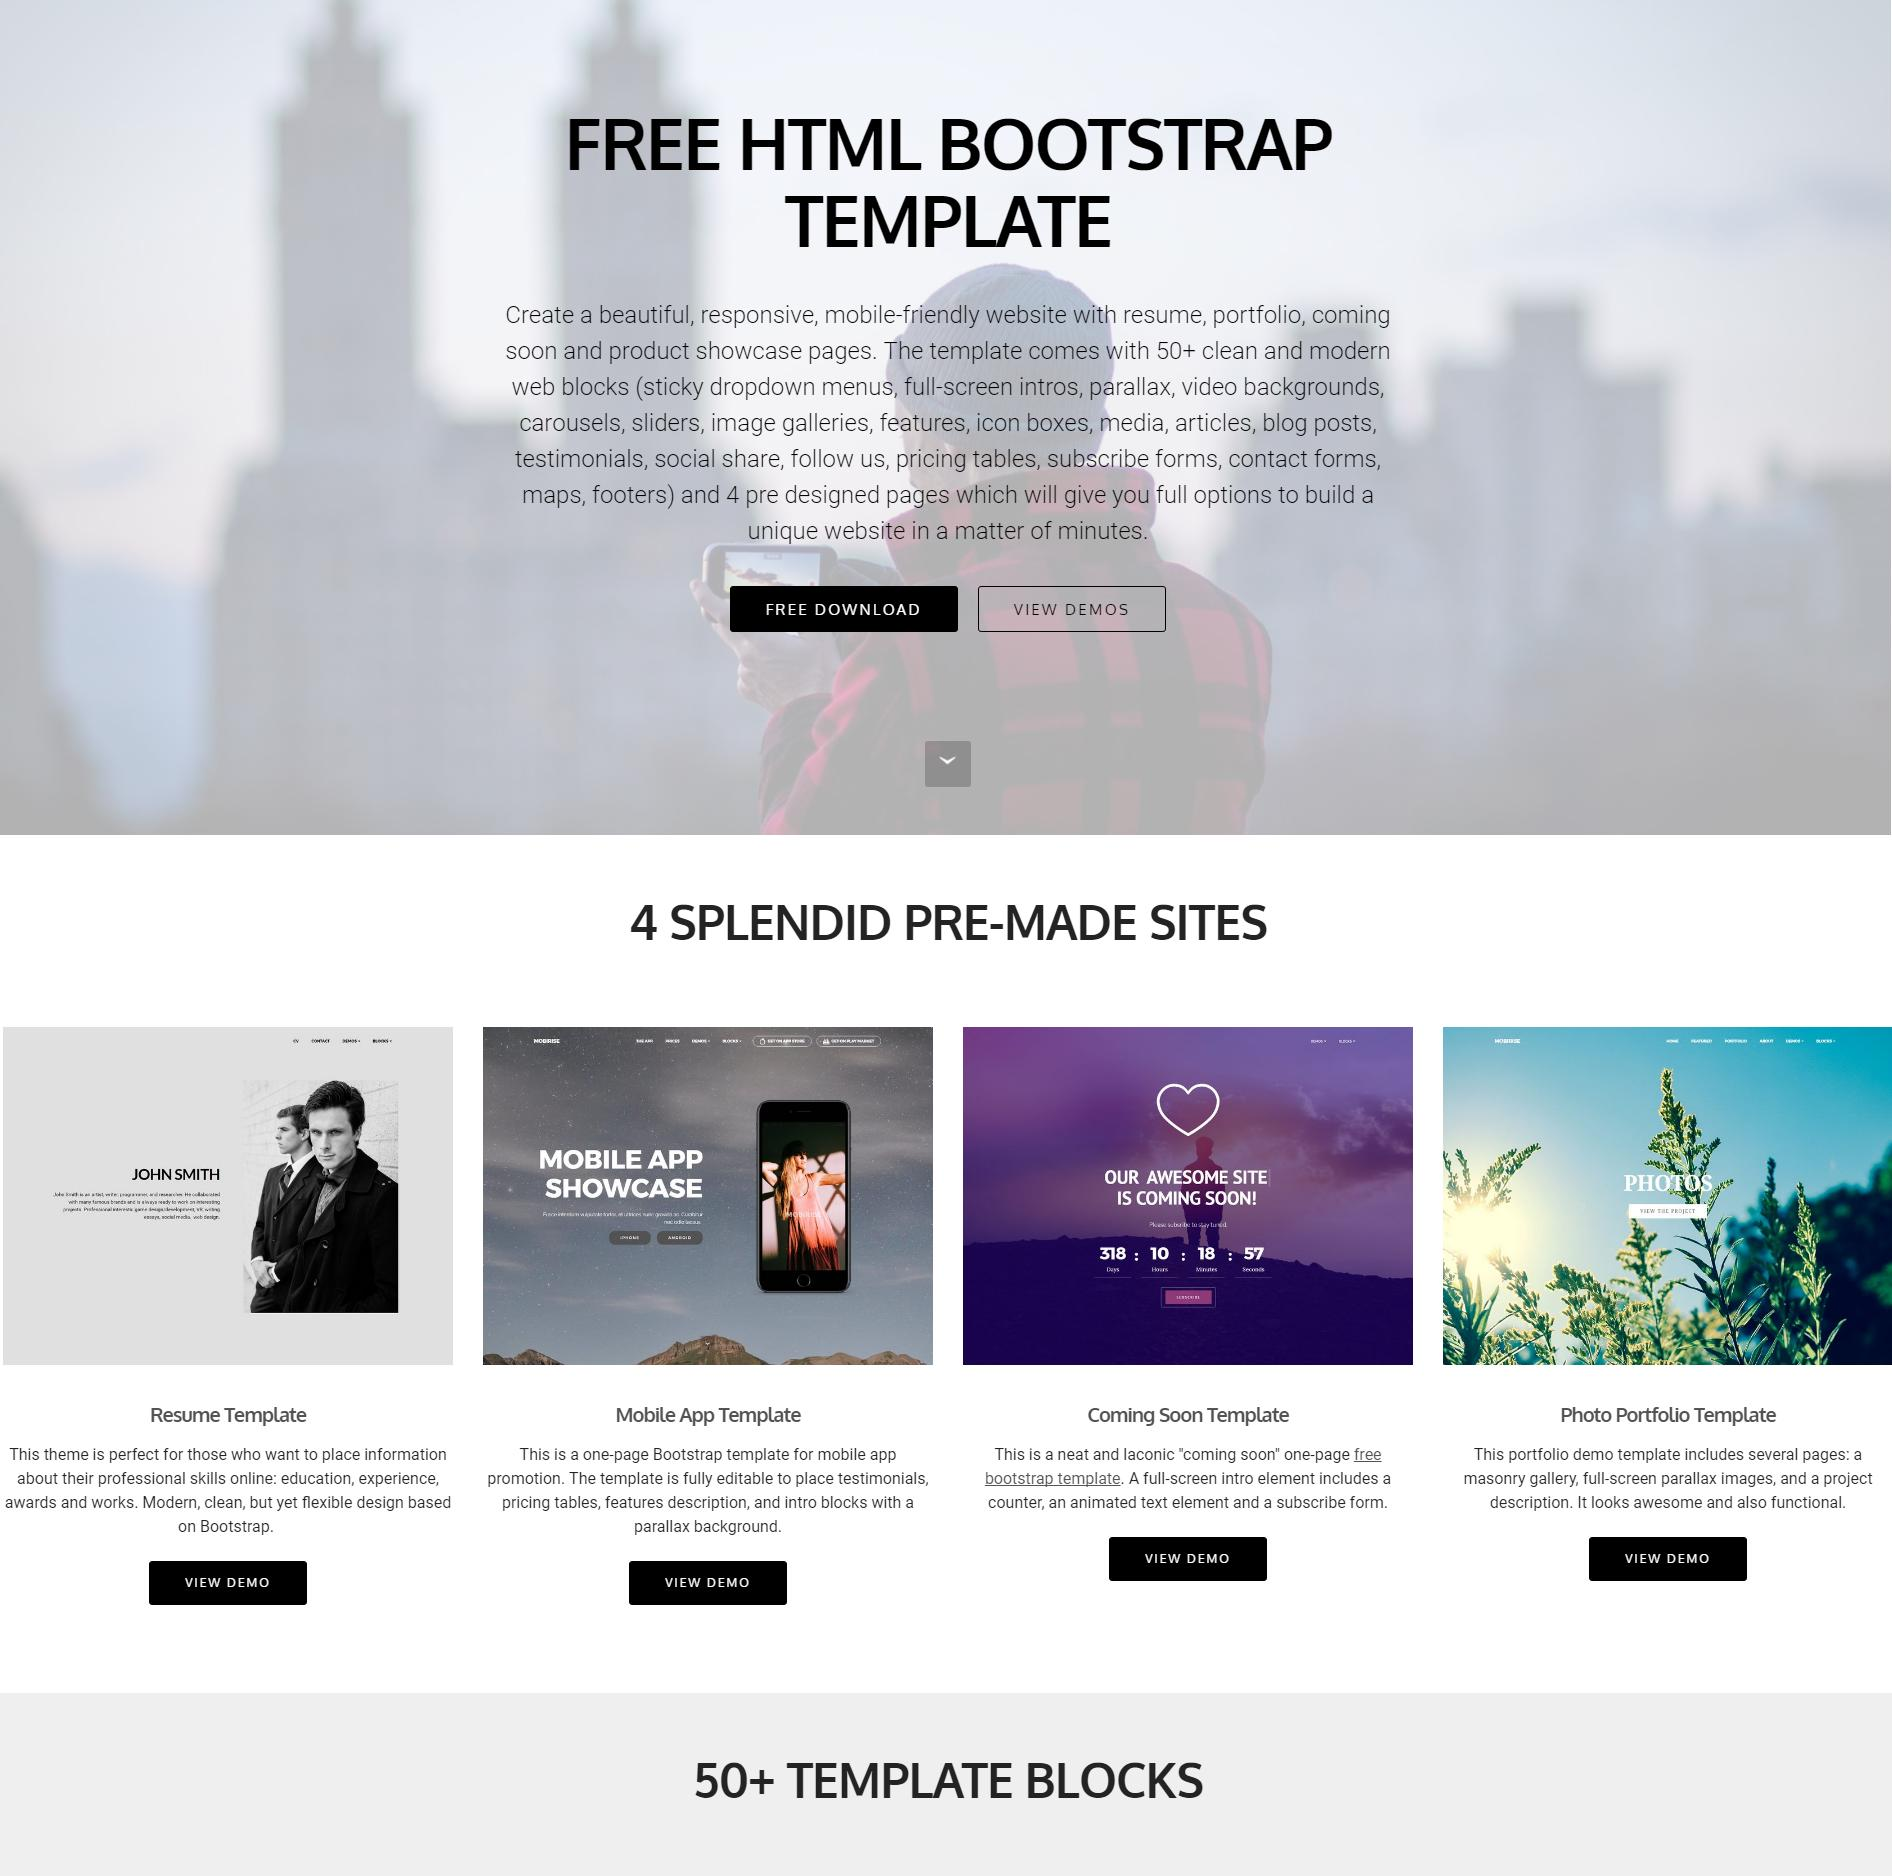button: (727, 581, 966, 646), (966, 577, 1170, 644)
